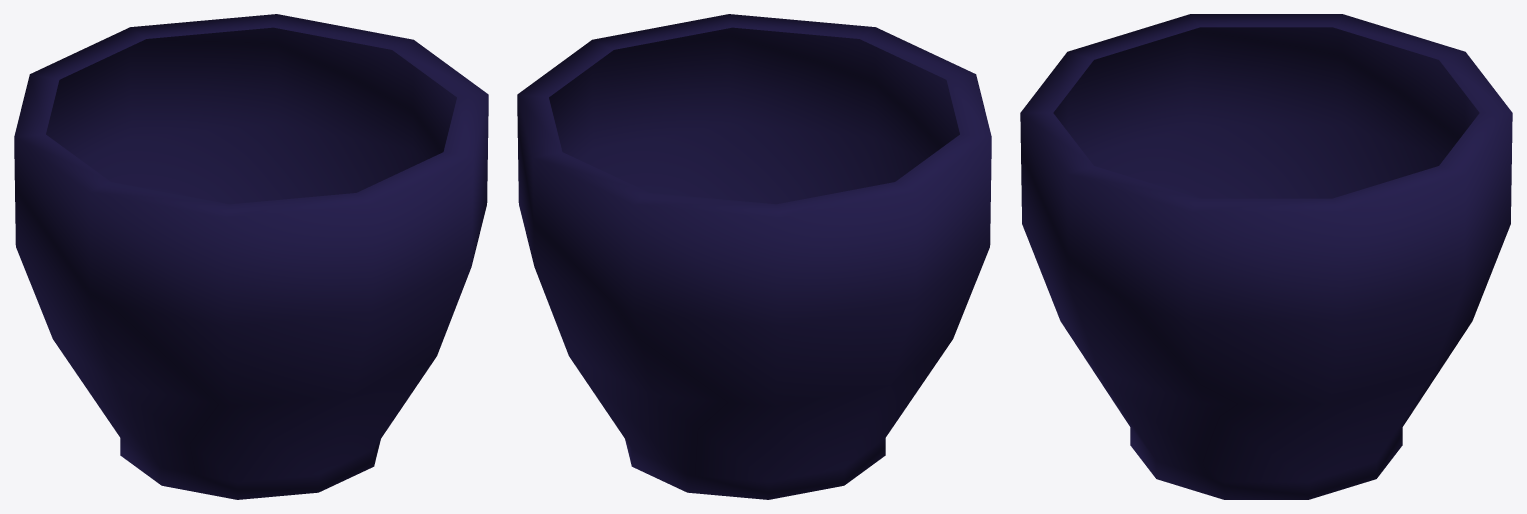
Rendered from Cup.fbx.
3 renders of one model, left to right at view 1: azimuth 30°, elevation 25°; view 2: azimuth 150°, elevation 25°; view 3: azimuth 270°, elevation 25°, orthographic.
Parts seen in each view (by area): view 1: Cylinder.018; view 2: Cylinder.018; view 3: Cylinder.018.
Part boxes in pixels (box(x1,y1,x2,y2)): Cylinder.018: box(14, 14, 488, 499); Cylinder.018: box(517, 14, 991, 499); Cylinder.018: box(1020, 14, 1512, 499).
Bounding box in the file's own units: 32.94 × 25.93 × 34.64.
